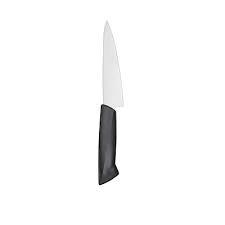Knife: (97, 19, 124, 185)
